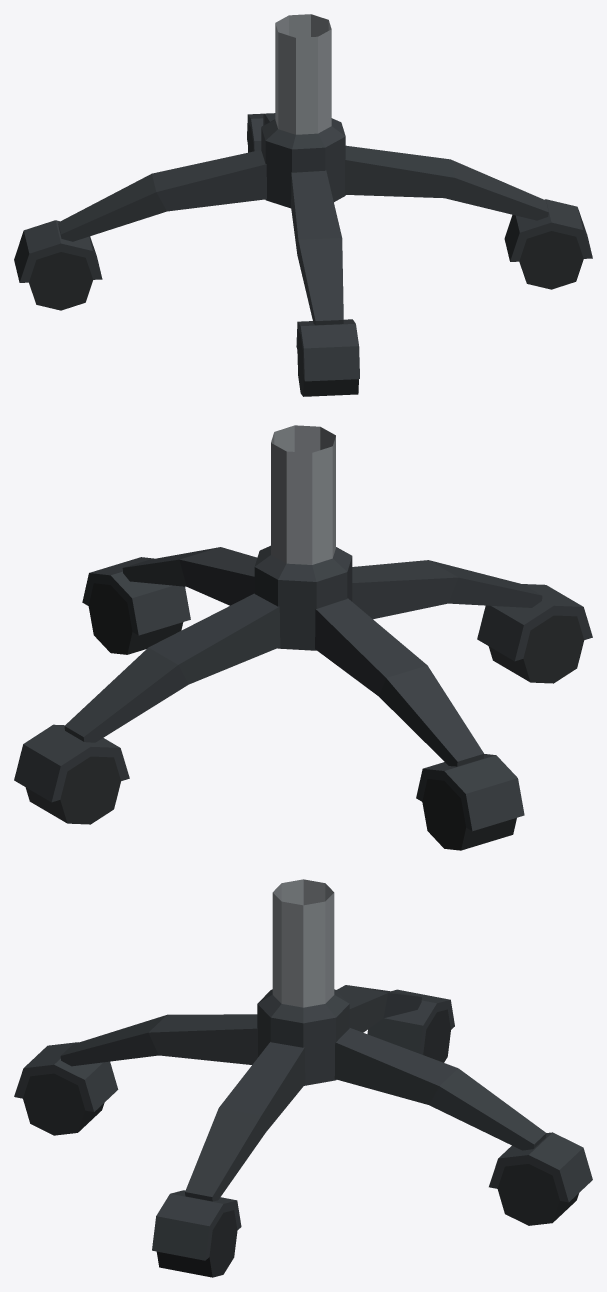
The model's file is SM_Prop_Shop_Chair_01.obj.
The picture shows the model from 3 angles, top to bottom: view 1: azimuth 30°, elevation 25°; view 2: azimuth 150°, elevation 25°; view 3: azimuth 270°, elevation 25°; orthographic projection. The views are drawn at different scales.
Visible parts, largest first — view 1: SM_Prop_Shop_Chair_01_0; view 2: SM_Prop_Shop_Chair_01_0; view 3: SM_Prop_Shop_Chair_01_0.
Part boxes in pixels (x1,y1,x2,y2): SM_Prop_Shop_Chair_01_0: [14, 14, 592, 396]; SM_Prop_Shop_Chair_01_0: [14, 425, 592, 850]; SM_Prop_Shop_Chair_01_0: [14, 879, 592, 1277].
Bounding box in the file's own units: 0.661 × 0.3491 × 0.661.
1 material, 1 textured.
